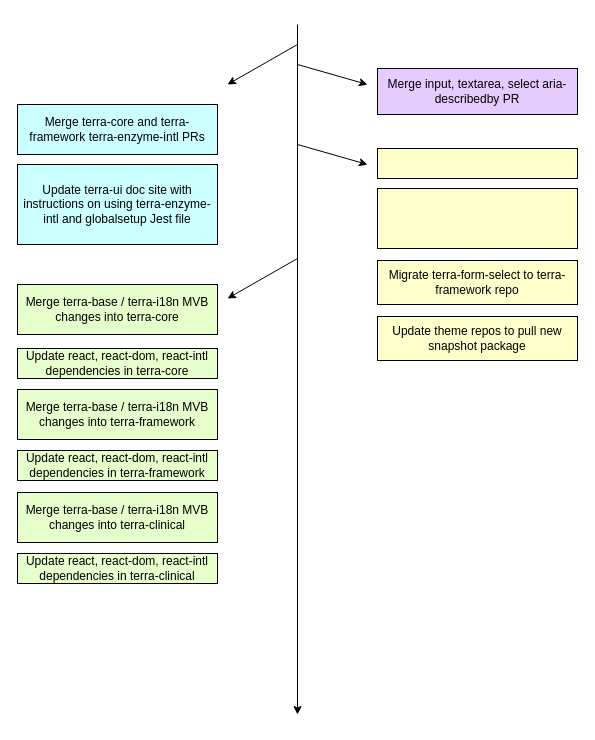
The diagram is 595 pixels wide and 740 high, and some of its shapes have lost their labels. The box of each missing label's shape, as (x1, y1, x2, y2) in pixels:
Log issue as to why we need to migrate terra-form-select to framework repo: (376, 188, 578, 248)
Merge select a11y PR: (376, 148, 578, 178)
